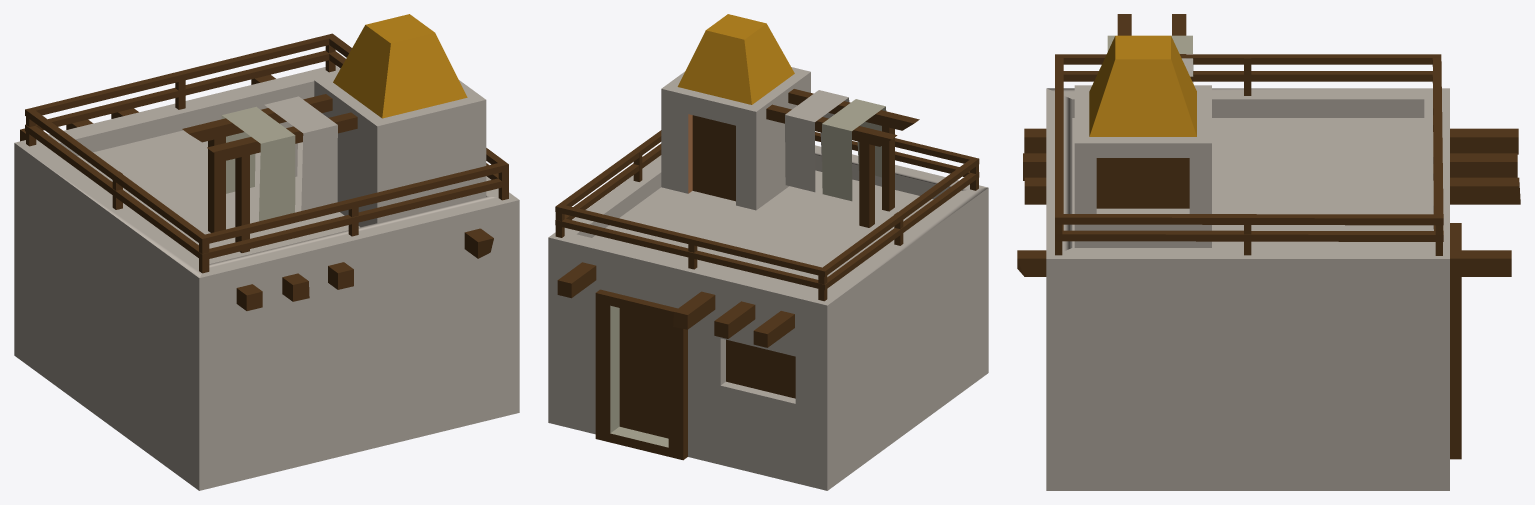
Rendered from Hut(Level 3).fbx.
3 renders of one model, left to right at view 1: azimuth 30°, elevation 25°; view 2: azimuth 150°, elevation 25°; view 3: azimuth 270°, elevation 25°, orthographic. The views are drawn at different scales.
Parts seen in each view (by area): view 1: Cube.004_Cube.005; view 2: Cube.004_Cube.005; view 3: Cube.004_Cube.005.
Part boxes in pixels (box(x1,y1,x2,y2)): Cube.004_Cube.005: box(14, 14, 519, 490); Cube.004_Cube.005: box(548, 14, 988, 490); Cube.004_Cube.005: box(1017, 14, 1520, 490).
Bounding box in the file's own units: 11.81 × 13.03 × 14.74.
